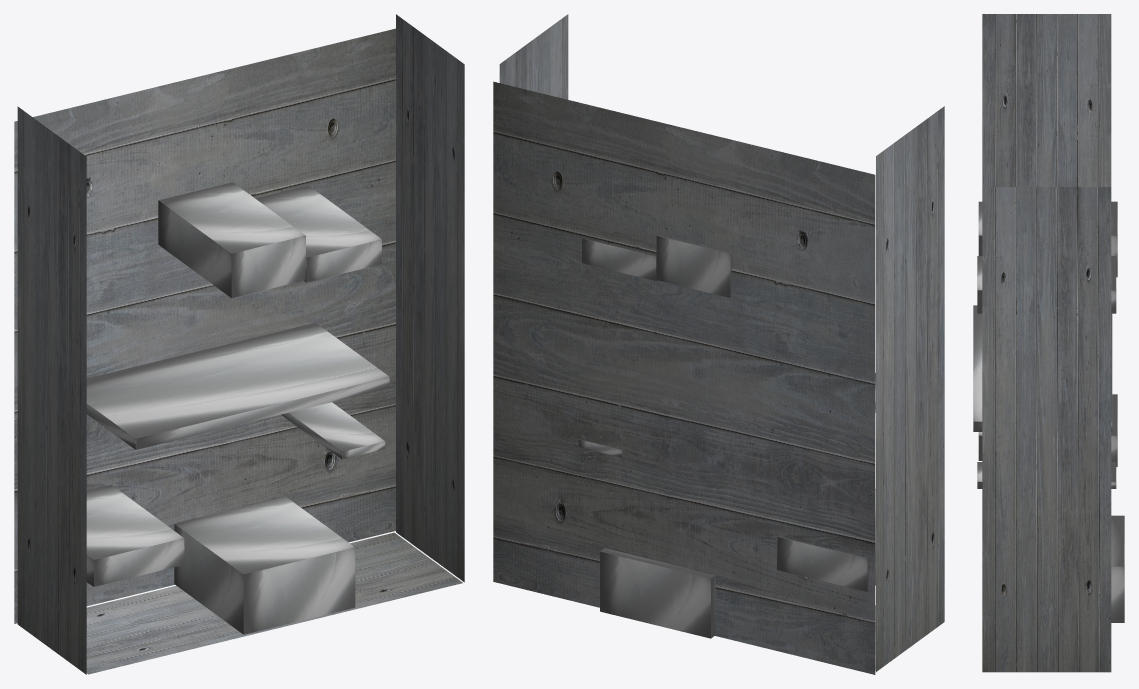
Rendered from Course_Level1.FBX.
3 views of the same model, side by side, from view 1: azimuth 30°, elevation 25°; view 2: azimuth 150°, elevation 25°; view 3: azimuth 270°, elevation 25° (orthographic). The views are drawn at different scales.
Parts seen in each view (by area): view 1: Plane004, Plane002, Plane003, Box003, Box002, Plane001, Box004, Box001, Box005, Box006; view 2: Plane004, Plane002, Box002, Plane003, Box004, Box001, Box005; view 3: Plane003, Plane002, Box002, Box003, Box004, Box005, Box001, Box006.
Part boxes in pixels (x1,y1,x2,y2): Plane004: (14, 28, 395, 623); Plane002: (17, 106, 86, 674); Plane003: (396, 14, 464, 582); Box003: (86, 322, 389, 449); Box002: (174, 496, 355, 634); Plane001: (86, 532, 462, 674); Box004: (158, 182, 305, 298); Box001: (86, 484, 184, 586); Box005: (255, 185, 381, 282); Box006: (281, 402, 385, 459); Plane004: (493, 81, 875, 674); Plane002: (876, 106, 944, 671); Box002: (600, 548, 715, 638); Plane003: (499, 14, 568, 99); Box004: (656, 235, 731, 297); Box001: (777, 489, 875, 591); Box005: (582, 238, 657, 281); Plane003: (982, 187, 1111, 672); Plane002: (982, 14, 1111, 186); Box002: (1111, 515, 1124, 622); Box003: (973, 305, 1112, 431); Box004: (978, 201, 1117, 277); Box005: (977, 256, 1116, 313); Box001: (978, 394, 1117, 466); Box006: (977, 462, 1116, 488).
Size of the model in its own units: 963 by 351 by 1246.
2 materials, 2 textured.
